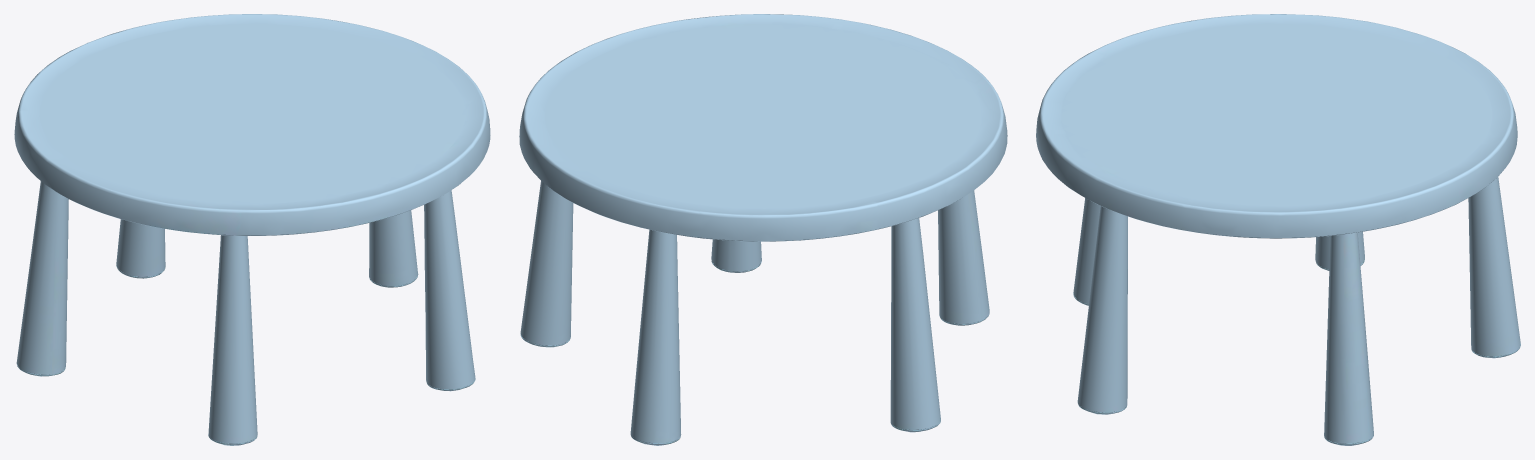
The model's file is 23 - MAMMUT - 兒童桌, 室內戶外用淺藍色, 85 公分 IKEA 線上購物.glb.
3 renders of one model, left to right at view 1: azimuth 30°, elevation 25°; view 2: azimuth 150°, elevation 25°; view 3: azimuth 270°, elevation 25°, orthographic. The views are drawn at different scales.
Parts seen in each view (by area): view 1: ASY_ART_10581994_S01_NV01; view 2: ASY_ART_10581994_S01_NV01; view 3: ASY_ART_10581994_S01_NV01.
Part boxes in pixels (left/top/right/bottom): ASY_ART_10581994_S01_NV01: left=14, top=14, right=490, bottom=445; ASY_ART_10581994_S01_NV01: left=519, top=14, right=1007, bottom=445; ASY_ART_10581994_S01_NV01: left=1036, top=14, right=1520, bottom=445.
Size of the model in its own units: 0.8662 by 0.4812 by 0.8717.
Materials: 1 (1 with a texture image).
